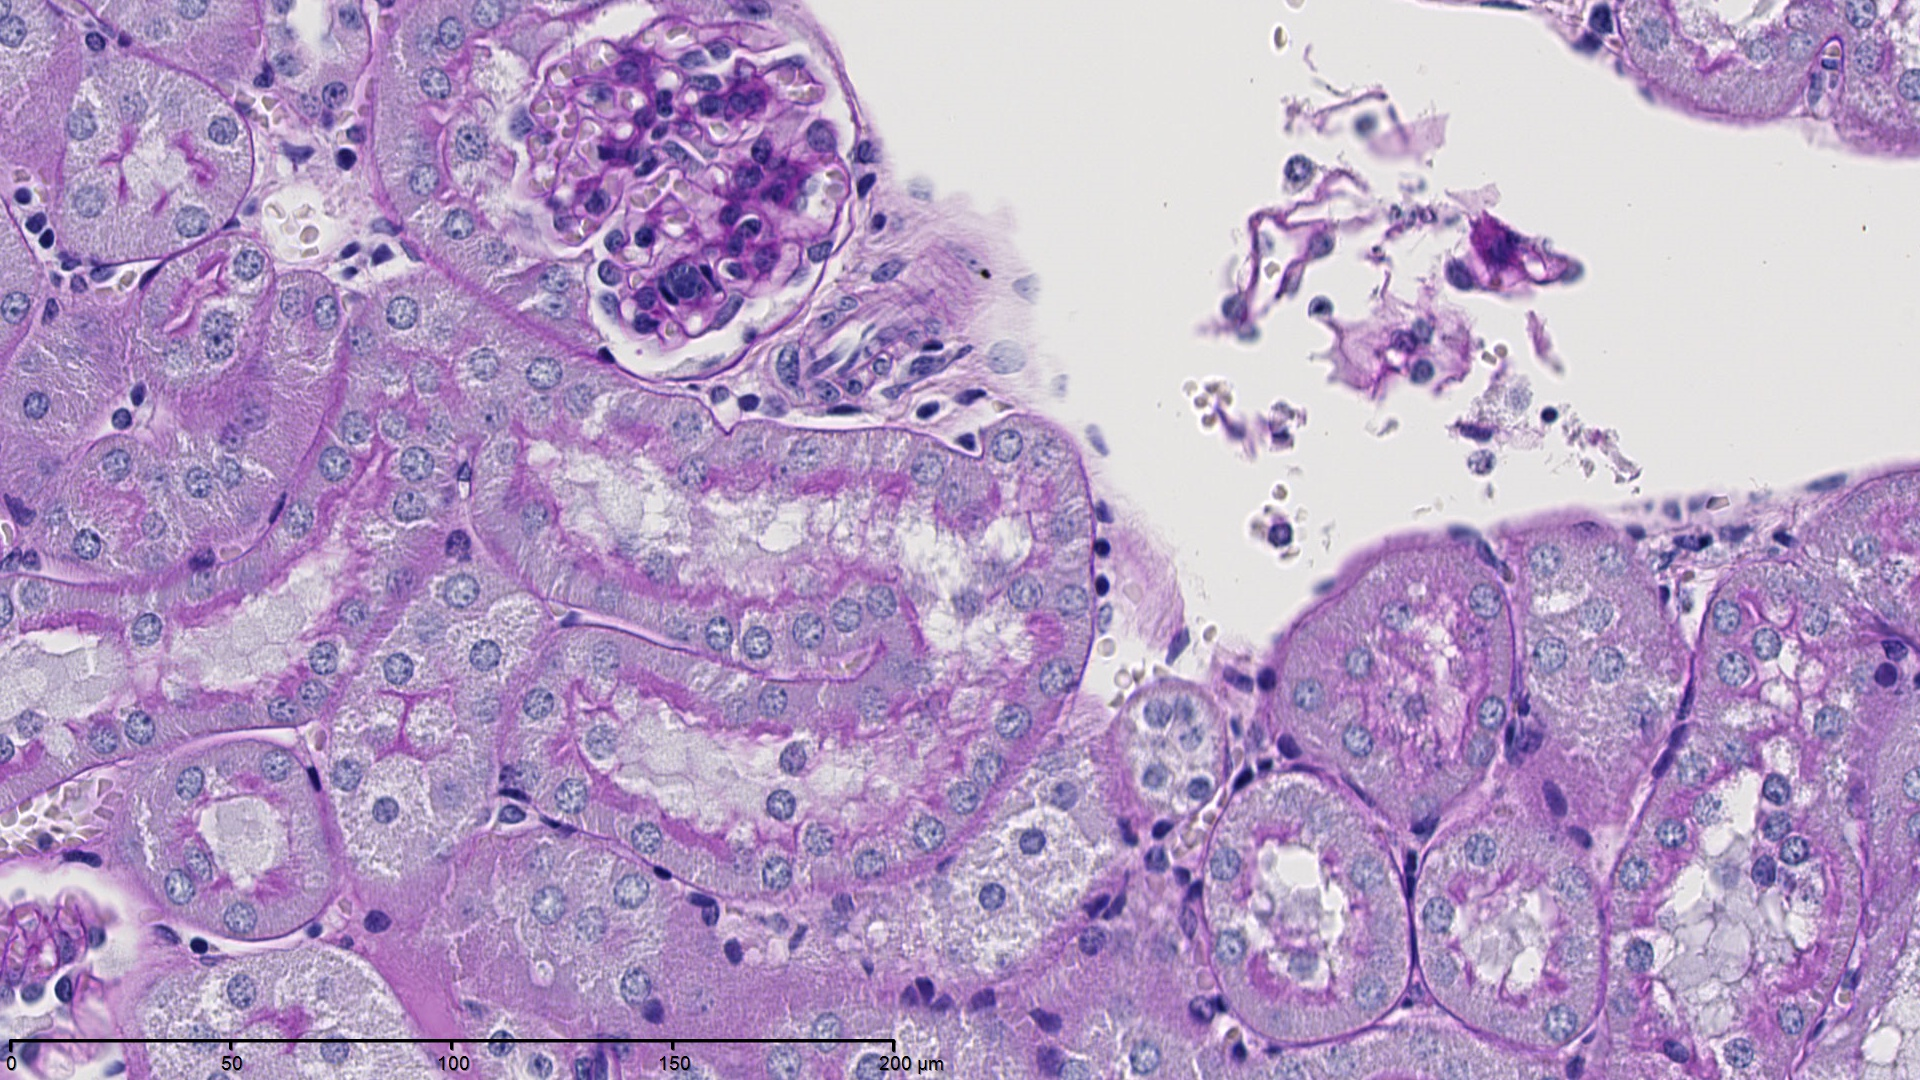Glomeruli: (514, 18, 844, 338)
